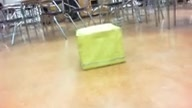cube: (75, 23, 126, 70)
